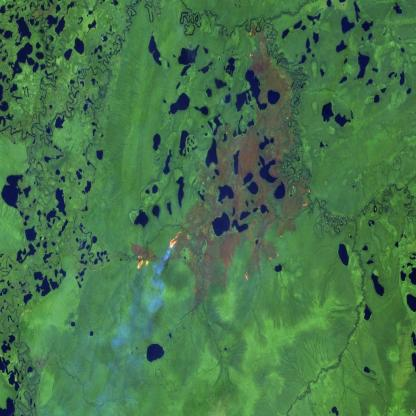fire: (132, 225, 192, 277)
